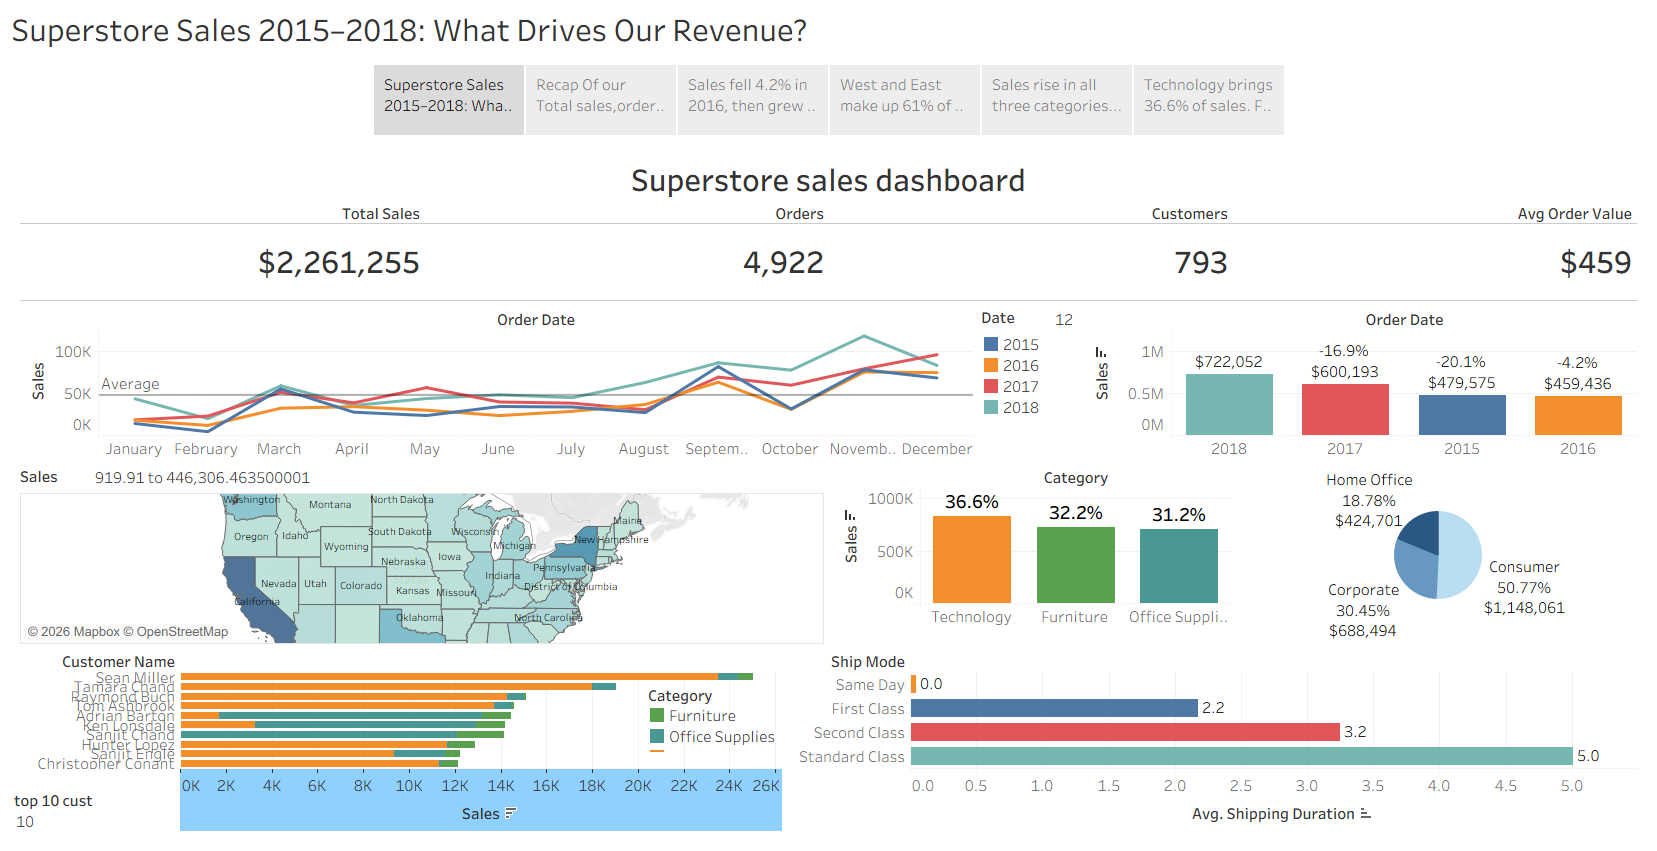

The dashboard page shown, as its layout file describes it:
{"tool":"tableau","page":{"name":"Superstore sales dashboard","canvas":[1000,1000],"units":"permille","ordinal":0},"visuals":[{"type":"title","box":[4.8,9.4,990.3,47]},{"type":"worksheet","title":"Cards","mark":"Automatic","box":[4.8,56.4,990.3,155.1]},{"type":"worksheet","title":"Monthly trend","mark":"Automatic","rows":["Sales"],"cols":["Order Date"],"box":[4.8,211.5,585.4,232.9]},{"type":"parameter","param":"[Parameters].[Parameter 0706495930396679]","box":[590.2,211.5,63.3,37.6]},{"type":"worksheet","title":"year by year growth","mark":"Bar","rows":["Sales"],"cols":["Order Date"],"box":[653.6,211.5,341.6,232.9]},{"type":"legend","title":"Monthly trend","param":"[federated.0xjborn1b0jx4810auvav1n9ca1h].[yr:Order Date:ok]","box":[590.2,249.1,63.3,195.3]},{"type":"filter","title":"Map Sales","param":"[federated.0xjborn1b0jx4810auvav1n9ca1h].[sum:Sales:qk]","box":[4.8,444.4,495.2,37.3]},{"type":"worksheet","title":"category vs sales","mark":"Automatic","rows":["Sales"],"cols":["Category"],"box":[500,444.4,247.6,270.9]},{"type":"worksheet","title":"Pie","mark":"Pie","box":[747.6,444.4,247.6,270.9]},{"type":"worksheet","title":"Map Sales","mark":"Multipolygon","box":[4.8,481.8,495.2,233.6]},{"type":"worksheet","title":"Top 10 cust","mark":"Automatic","rows":["Customer Name"],"cols":["Sales"],"box":[4.8,715.4,469.5,275.2]},{"type":"worksheet","title":"Shipmode avg","mark":"Automatic","rows":["Ship Mode"],"cols":["Shipping Duration"],"box":[474.3,715.4,520.9,275.2]},{"type":"legend","title":"Top 10 cust","param":"[federated.0xjborn1b0jx4810auvav1n9ca1h].[none:Category:nk]","box":[389.3,768.5,84.5,99.9]},{"type":"parameter","param":"[Parameters].[Parameter 0706496082333717]","box":[3.6,922.4,98.4,70.5]}]}

Visuals, with their boxes on the dashboard's canvas, which has no fixed pixel size, in thousandths of its width and height (x1, y1, x2, y2). These are canvas units, not pixel positions in the 1657x851 screenshot, which may show the page scaled, cropped or inside an application window:
title: <bbox>5, 9, 995, 56</bbox>
"Cards" worksheet: <bbox>5, 56, 995, 212</bbox>
"Monthly trend" worksheet: <bbox>5, 212, 590, 444</bbox>
parameter: <bbox>590, 212, 654, 249</bbox>
"year by year growth" worksheet (Bar marks): <bbox>654, 212, 995, 444</bbox>
"Monthly trend" legend: <bbox>590, 249, 654, 444</bbox>
"Map Sales" filter: <bbox>5, 444, 500, 482</bbox>
"category vs sales" worksheet: <bbox>500, 444, 748, 715</bbox>
"Pie" worksheet (Pie marks): <bbox>748, 444, 995, 715</bbox>
"Map Sales" worksheet (Multipolygon marks): <bbox>5, 482, 500, 715</bbox>
"Top 10 cust" worksheet: <bbox>5, 715, 474, 991</bbox>
"Shipmode avg" worksheet: <bbox>474, 715, 995, 991</bbox>
"Top 10 cust" legend: <bbox>389, 768, 474, 868</bbox>
parameter: <bbox>4, 922, 102, 993</bbox>
